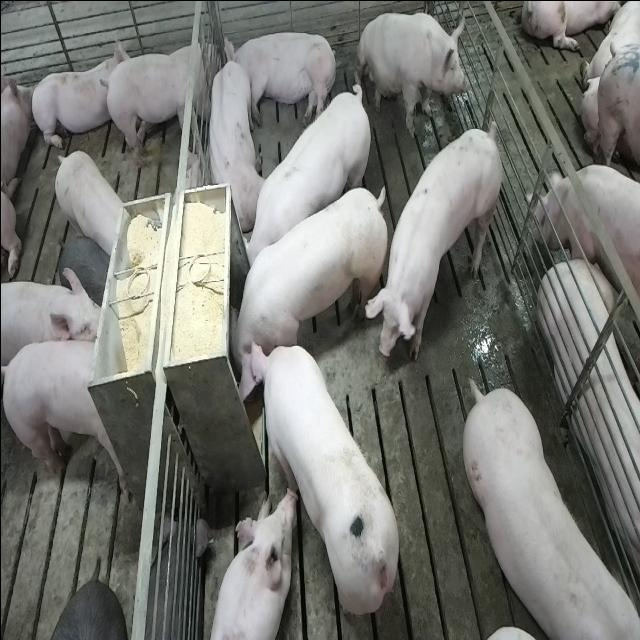Feeding: (243, 338, 399, 618), (219, 176, 385, 392)
Lateral_lying: (538, 251, 640, 608), (222, 26, 339, 126)
Sitting: (355, 8, 469, 138)
Standing: (466, 381, 640, 640), (368, 118, 506, 362), (244, 78, 376, 282), (1, 336, 124, 494), (101, 34, 218, 174), (534, 165, 640, 309), (2, 269, 110, 377), (51, 150, 126, 258)
Sternal_lying: (206, 488, 294, 640), (27, 34, 125, 154), (203, 53, 263, 232)
